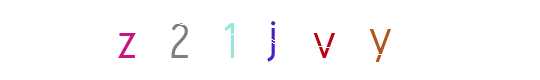1: (205, 0, 285, 80)
2: (179, 0, 259, 80)
J: (230, 0, 310, 80)
V: (232, 0, 312, 80)
Y: (313, 0, 393, 80)
Z: (93, 0, 173, 80)
